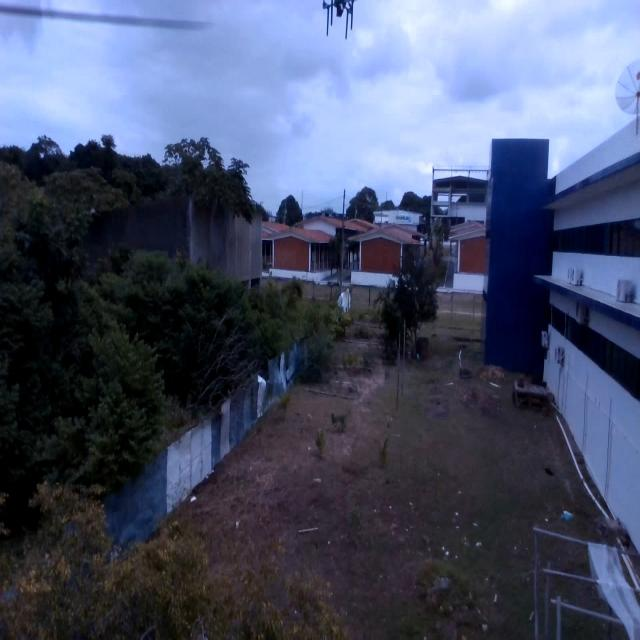-uav-: (313, 0, 365, 46)
